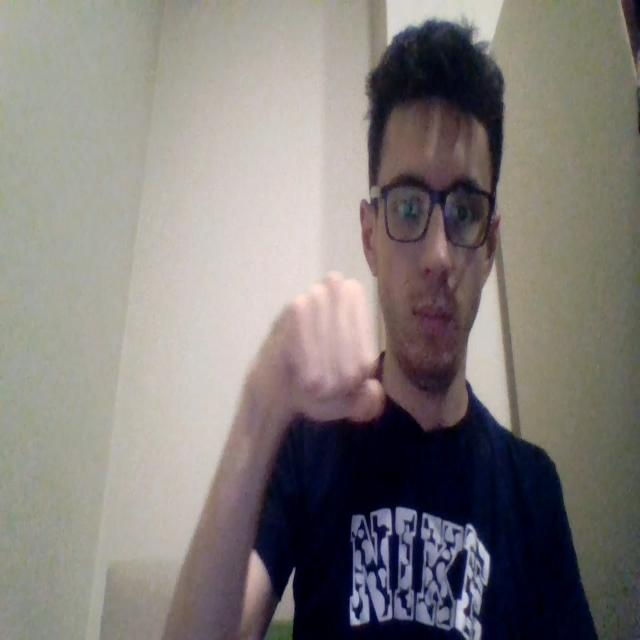yes: (282, 269, 386, 424)
